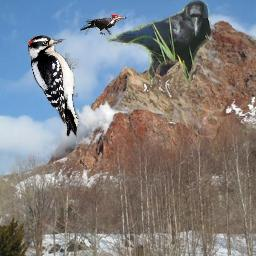Crow: (105, 0, 211, 84)
Woodpecker: (28, 35, 79, 137), (80, 14, 127, 36)
